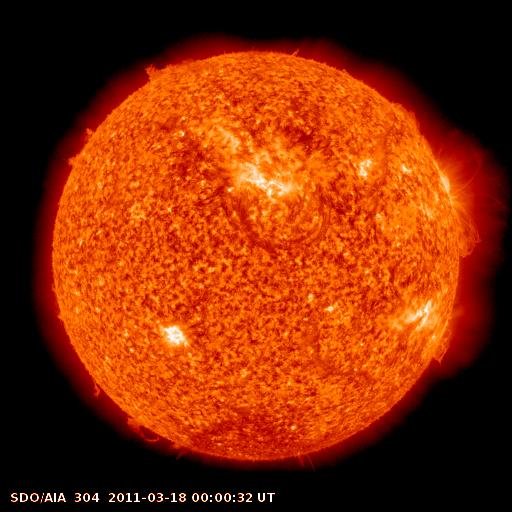prominence: (118, 409, 196, 462), (416, 300, 473, 370), (56, 120, 101, 173), (132, 53, 202, 86), (387, 93, 429, 139), (282, 439, 330, 478), (77, 370, 111, 406)
